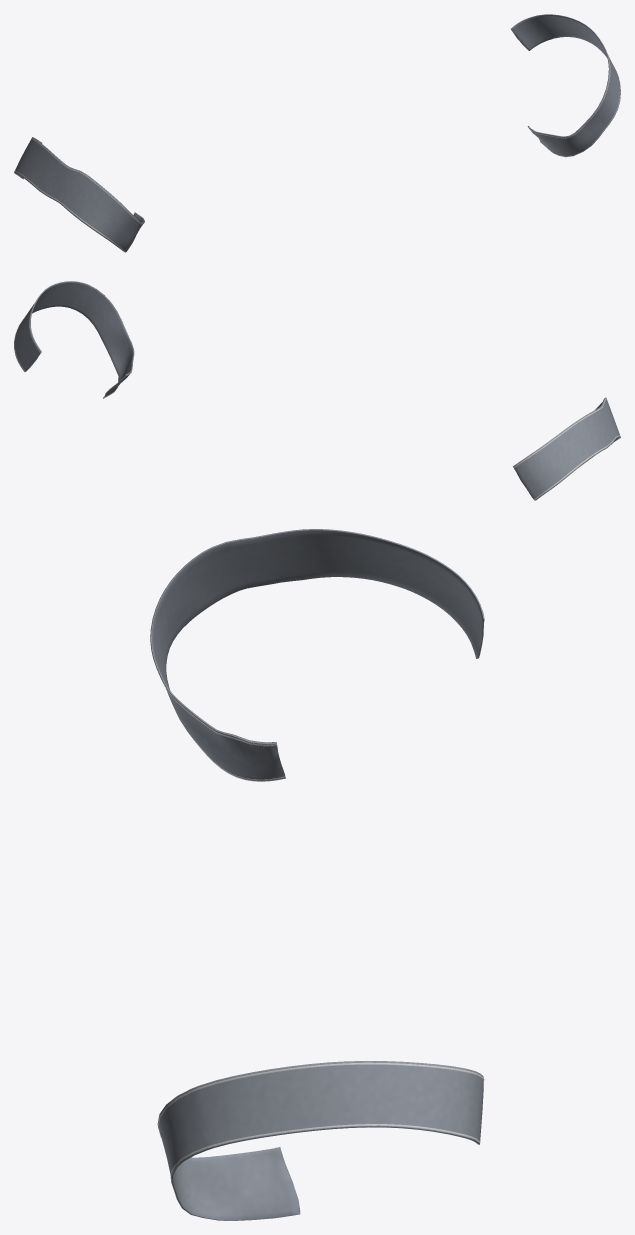
The model's file is Jac_Flic_Lim.glb.
The picture shows the model from 3 angles, top to bottom: view 1: azimuth 30°, elevation 25°; view 2: azimuth 150°, elevation 25°; view 3: azimuth 270°, elevation 25°; orthographic projection. The views are drawn at different scales.
Visible parts, largest first — view 1: Jac_Flic_Lim.001, Jac_Rope_Flic_Lim.001; view 2: Jac_Flic_Lim.001, Jac_Rope_Flic_Lim.001; view 3: Jac_Flic_Lim.001, Jac_Rope_Flic_Lim.001.
Part boxes in pixels (<box>): Jac_Flic_Lim.001: <box>14,14,620,252</box>; Jac_Rope_Flic_Lim.001: <box>14,43,620,251</box>; Jac_Flic_Lim.001: <box>14,281,620,500</box>; Jac_Rope_Flic_Lim.001: <box>14,294,620,499</box>; Jac_Flic_Lim.001: <box>150,529,484,1220</box>; Jac_Rope_Flic_Lim.001: <box>152,613,484,1207</box>.
Size of the model in its own units: 1.2 by 0.22 by 0.3078.
2 materials, 2 textured.
